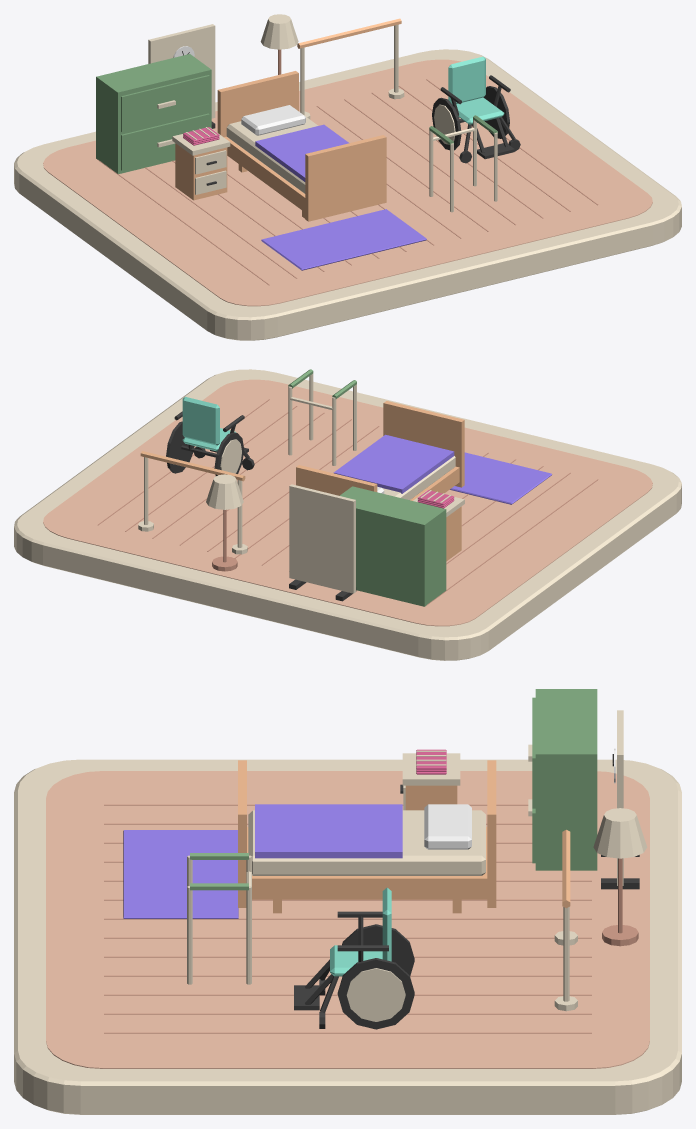
The picture shows the model from 3 angles, top to bottom: view 1: azimuth 30°, elevation 25°; view 2: azimuth 150°, elevation 25°; view 3: azimuth 270°, elevation 25°; orthographic projection. The views are drawn at different scales.
Visible parts, largest first — view 1: COM-02 Floor Surface, COM-01 Rounded Base Direct, Cabinet, End board, Rug, End board.001, Blanket, Panel, Mattress, Frame, Backrest, Body (+10 smaller); view 2: COM-02 Floor Surface, COM-01 Rounded Base Direct, Cabinet, Panel, Blanket, End board, Rug, Backrest, End board.001, Lamp shade, Rear wheel.001, Mattress (+4 smaller); view 3: COM-02 Floor Surface, COM-01 Rounded Base Direct, Cabinet, Rug, Blanket, Mattress, Frame, Push rim.001, Pillow, Lamp shade, Rear wheel.001, End board.001 (+18 smaller).
Boxes of the visible parts, <box> form: COM-02 Floor Surface: <box>43,59,652,306</box>; COM-01 Rounded Base Direct: <box>14,49,681,340</box>; Cabinet: <box>96,54,211,173</box>; End board: <box>305,135,386,221</box>; Rug: <box>261,209,426,270</box>; End board.001: <box>217,71,298,137</box>; Blanket: <box>255,124,349,181</box>; Panel: <box>148,24,215,118</box>; Mattress: <box>226,109,318,193</box>; Frame: <box>224,136,305,212</box>; Backrest: <box>448,56,485,104</box>; Body: <box>175,143,227,200</box>; COM-02 Floor Surface: <box>43,379,652,626</box>; COM-01 Rounded Base Direct: <box>14,369,681,660</box>; Cabinet: <box>339,486,446,606</box>; Panel: <box>289,484,355,593</box>; Blanket: <box>333,434,454,493</box>; End board: <box>383,401,464,487</box>; Rug: <box>450,452,551,504</box>; Backrest: <box>182,396,219,445</box>; End board.001: <box>296,465,377,495</box>; Lamp shade: <box>206,474,243,509</box>; Rear wheel.001: <box>166,421,194,473</box>; Mattress: <box>382,456,455,500</box>; COM-02 Floor Surface: <box>46,771,649,1068</box>; COM-01 Rounded Base Direct: <box>14,759,681,1114</box>; Cabinet: <box>528,689,597,870</box>; Rug: <box>123,830,238,918</box>; Blanket: <box>255,804,402,858</box>; Mattress: <box>248,810,485,875</box>; Frame: <box>247,827,487,899</box>; Push rim.001: <box>346,968,405,1021</box>; Pillow: <box>424,804,471,849</box>; Lamp shade: <box>593,808,647,858</box>; Rear wheel.001: <box>337,958,414,1029</box>; End board.001: <box>487,760,496,907</box>.
Bounding box in the file's own units: 6 × 1.48 × 5.2.
Materials: 1 (1 with a texture image).
